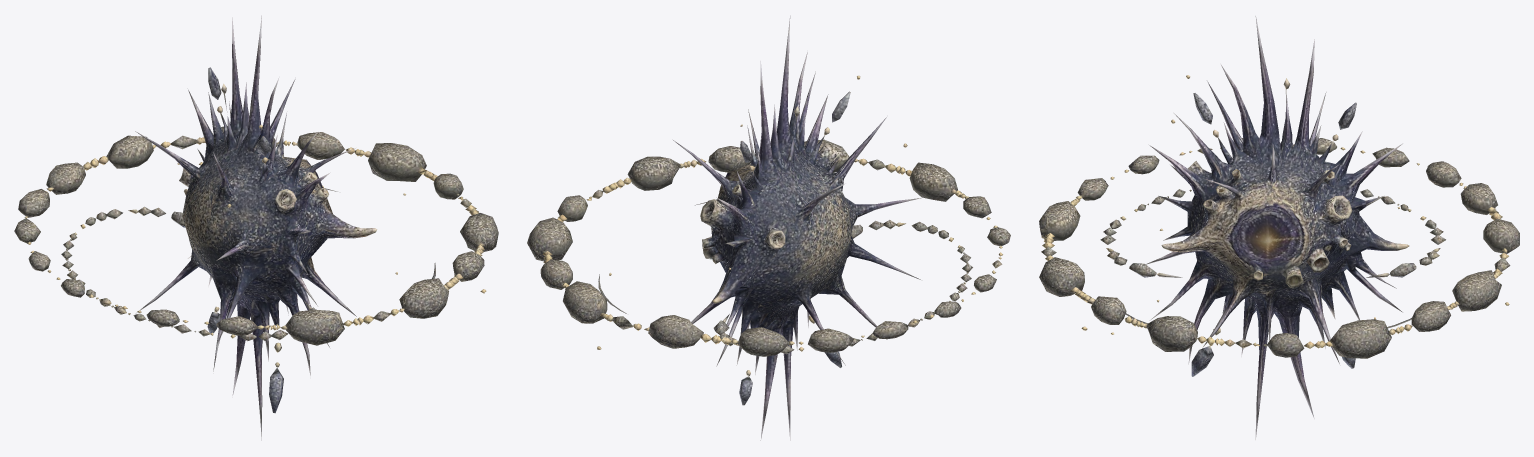
Rendered from hadal-orbital-siege-urchin-echo.glb.
3 renders of one model, left to right at view 1: azimuth 30°, elevation 25°; view 2: azimuth 150°, elevation 25°; view 3: azimuth 270°, elevation 25°, orthographic.
Visible parts, largest first — view 1: tripo_node_324a55b1-53af-428c-9cfd-f66c031a2341; view 2: tripo_node_324a55b1-53af-428c-9cfd-f66c031a2341; view 3: tripo_node_324a55b1-53af-428c-9cfd-f66c031a2341.
Boxes of the visible parts, box(x1,y1,x2,y2) form: tripo_node_324a55b1-53af-428c-9cfd-f66c031a2341: box(14, 15, 498, 440); tripo_node_324a55b1-53af-428c-9cfd-f66c031a2341: box(527, 15, 1010, 440); tripo_node_324a55b1-53af-428c-9cfd-f66c031a2341: box(1039, 16, 1519, 439).
Bounding box in the file's own units: 0.9941 × 0.9824 × 0.998.
Materials: 1 (1 with a texture image).
